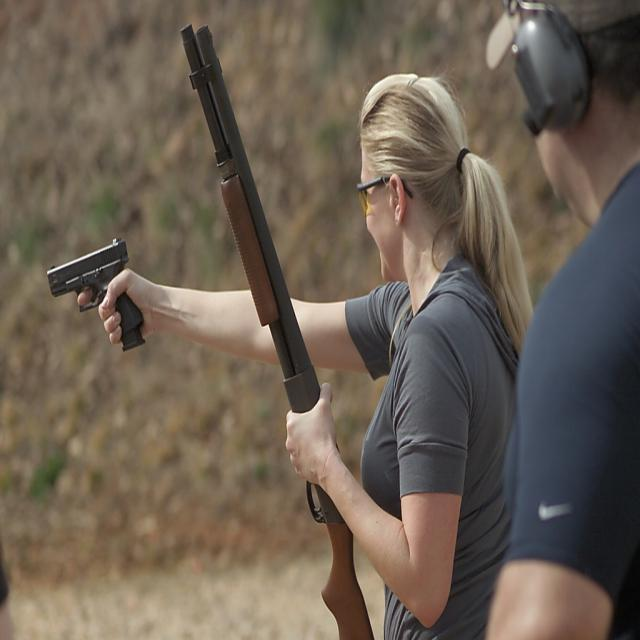weapon: (178, 25, 374, 640), (46, 234, 148, 352)
